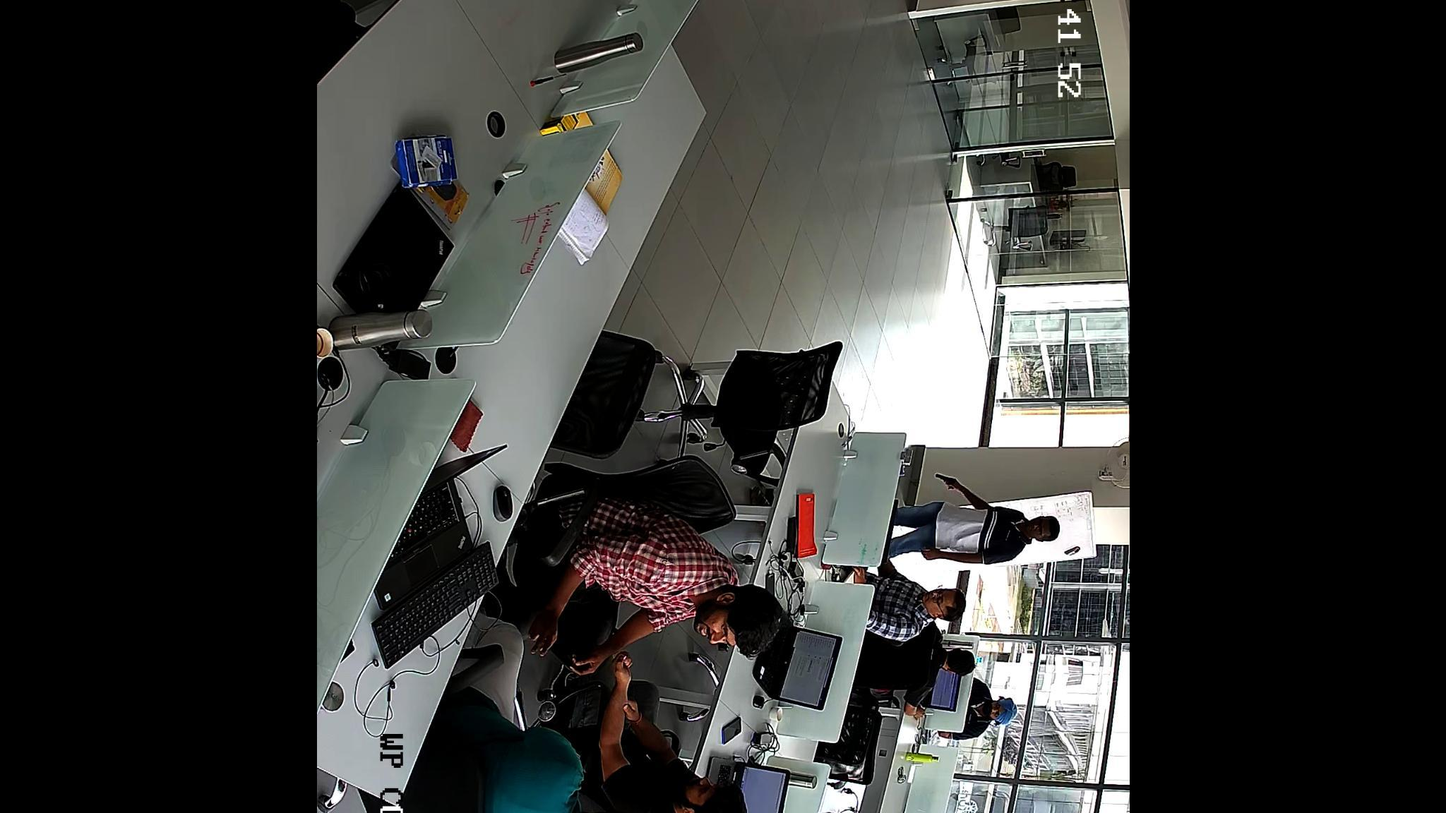gun: (935, 474, 956, 488)
